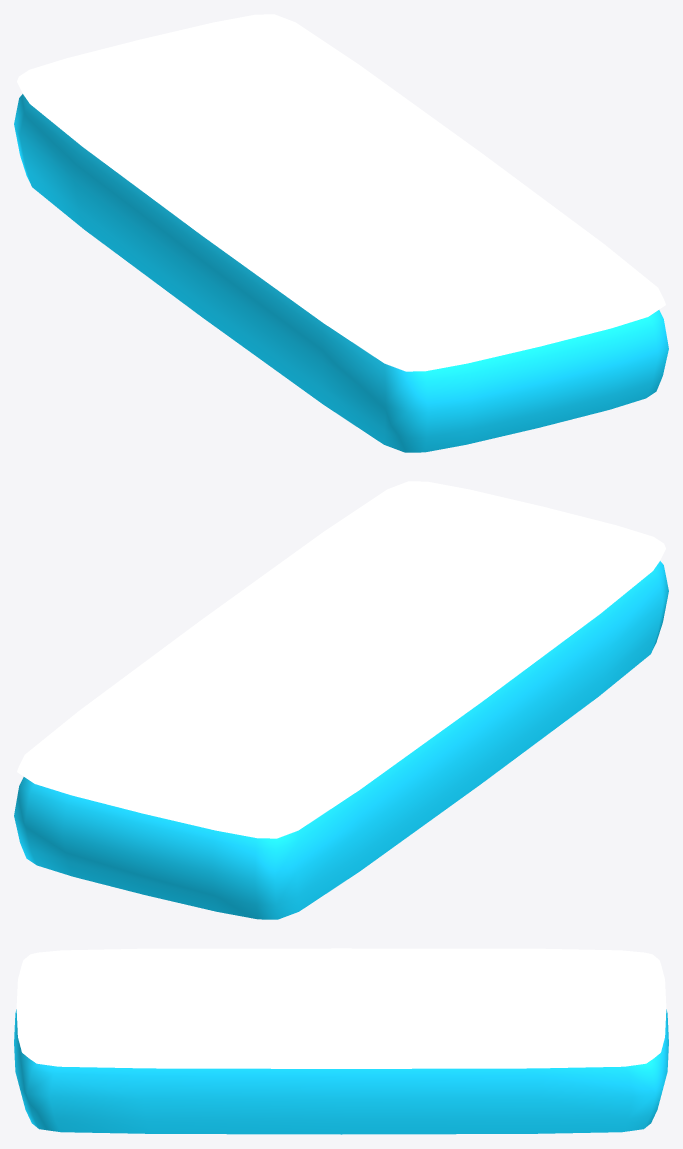
The model's file is ground_005.glb.
3 renders of one model, top to bottom at view 1: azimuth 30°, elevation 25°; view 2: azimuth 150°, elevation 25°; view 3: azimuth 270°, elevation 25°, orthographic. The views are drawn at different scales.
Visible parts, largest first — view 1: ground_005; view 2: ground_005; view 3: ground_005.
Part boxes in pixels (box(x1,y1,x2,y2)): ground_005: box(14, 14, 668, 452); ground_005: box(14, 481, 668, 919); ground_005: box(14, 948, 668, 1134).
Size of the model in its own units: 6.66 by 2.41 by 16.34.
2 materials, 2 textured.
